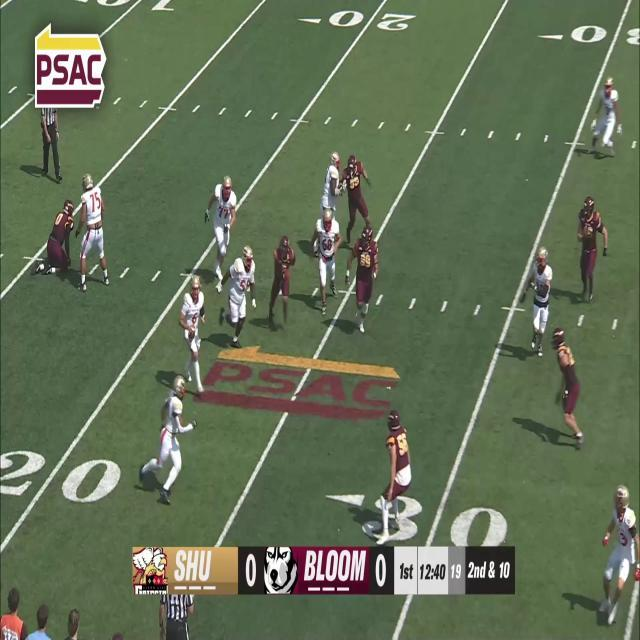football: (188, 324, 196, 343)
